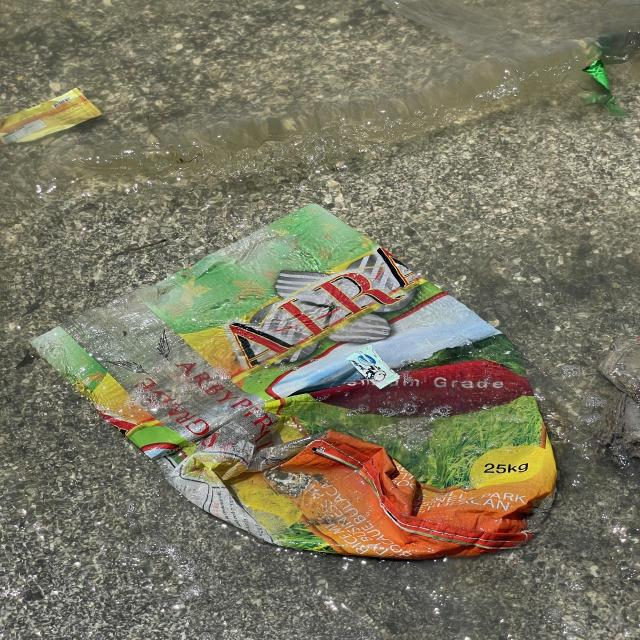plastic_waste: (31, 205, 559, 561), (3, 91, 105, 147)
